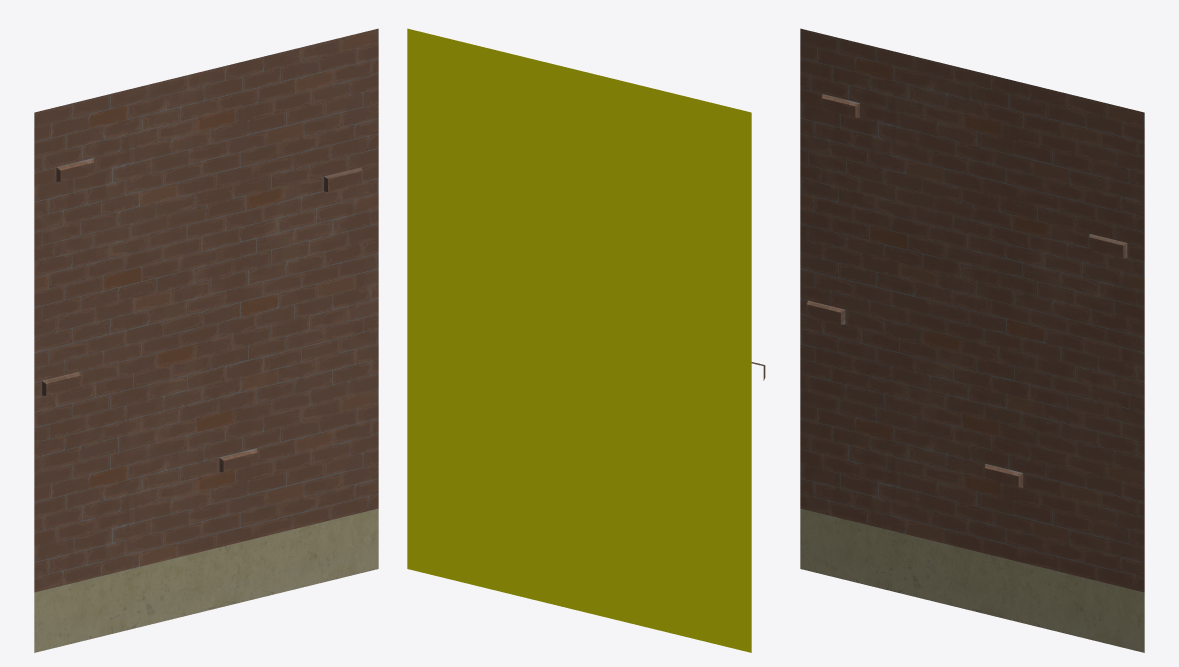
The model's file is brick-bottomtrim.glb.
The picture shows the model from 3 angles, left to right: view 1: azimuth 30°, elevation 25°; view 2: azimuth 150°, elevation 25°; view 3: azimuth 330°, elevation 25°; orthographic projection.
Visible parts, largest first — view 1: Brick_BottomTrim; view 2: Brick_BottomTrim; view 3: Brick_BottomTrim.
Part boxes in pixels (bbox=[...]): Brick_BottomTrim: bbox=[34, 28, 378, 652]; Brick_BottomTrim: bbox=[407, 28, 765, 652]; Brick_BottomTrim: bbox=[800, 28, 1144, 652].
Size of the model in its own units: 2 by 3 by 0.229.
3 materials, 2 textured.
